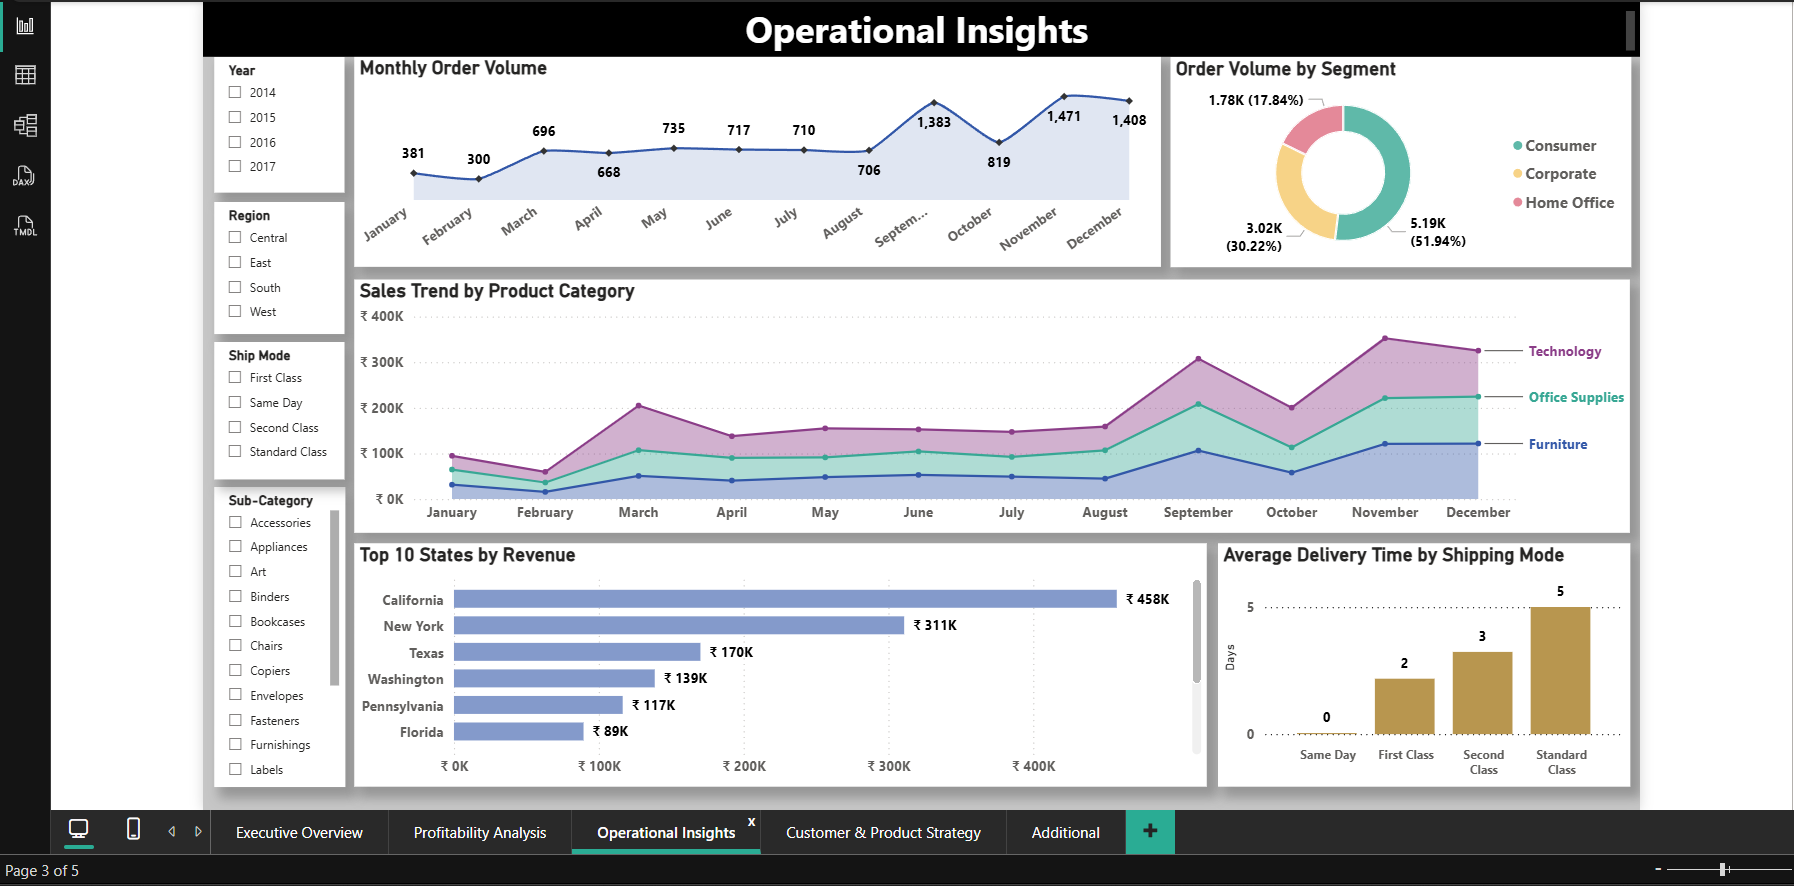

The dashboard page shown, as its layout file describes it:
{"tool":"powerbi","page":{"name":"Operational Insights","canvas":[1280,720],"ordinal":2},"visuals":[{"type":"slicer","fields":{"Values":["Superstore_Sales_Cleaned.Order Year"]},"box":[9.9,49.4,116,121],"z":0},{"type":"slicer","fields":{"Values":["Superstore_Sales_Cleaned.Sub-Category"]},"box":[9.8,431.9,116.6,267.5],"z":1000},{"type":"slicer","fields":{"Values":["Superstore_Sales_Cleaned.Region"]},"box":[9.9,177.8,116,117.3],"z":2000},{"type":"slicer","fields":{"Values":["Superstore_Sales_Cleaned.Ship Mode"]},"box":[9.9,302.5,116,122.2],"z":3000},{"type":"lineChart","title":"Monthly Order Volume","fields":{"Category":["Superstore_Sales_Cleaned.Order Date.Variation.Date Hierarchy.Month"],"Y":["CountNonNull(Superstore_Sales_Cleaned.Order ID)"]},"box":[134.6,48.1,718.5,187.7],"z":4000},{"type":"donutChart","title":"Order Volume by Segment","fields":{"Category":["Superstore_Sales_Cleaned.Segment"],"Y":["CountNonNull(Superstore_Sales_Cleaned.Order ID)"]},"box":[861.2,48.8,410,187.5],"z":5000},{"type":"stackedAreaChart","title":"Sales Trend by Product Category","fields":{"Category":["Superstore_Sales_Cleaned.Order Date.Variation.Date Hierarchy.Year","Superstore_Sales_Cleaned.Order Date.Variation.Date Hierarchy.Quarter","Superstore_Sales_Cleaned.Order Date.Variation.Date Hierarchy.Month","Superstore_Sales_Cleaned.Order Date.Variation.Date Hierarchy.Day"],"Y":["Sum(Superstore_Sales_Cleaned.Sales)"],"Series":["Superstore_Sales_Cleaned.Category"]},"box":[135,246.6,1136.2,225.8],"z":6000},{"type":"barChart","title":"Top 10 States by Revenue","fields":{"Category":["Superstore_Sales_Cleaned.State"],"Y":["Sum(Superstore_Sales_Cleaned.Sales)"]},"box":[135,482.2,759.5,217.2],"z":7000},{"type":"clusteredColumnChart","title":"Average Delivery Time by Shipping Mode","fields":{"Category":["Superstore_Sales_Cleaned.Ship Mode"],"Y":["Avg(Superstore_Sales_Cleaned.Ship Duration (Days))"]},"box":[904.3,482.2,366.9,217.2],"z":8000},{"type":"textbox","box":[0,0,1280,48.8],"z":9000}]}

Visuals, with their boxes on the page's 1280x720 design canvas (x1, y1, x2, y2). These are canvas units, not pixel positions in the 1794x886 screenshot, which may show the page scaled, cropped or inside an application window:
slicer - Superstore_Sales_Cleaned.Order Year: (10,49,126,170)
slicer - Superstore_Sales_Cleaned.Sub-Category: (10,432,126,699)
slicer - Superstore_Sales_Cleaned.Region: (10,178,126,295)
slicer - Superstore_Sales_Cleaned.Ship Mode: (10,302,126,425)
"Monthly Order Volume" lineChart: (135,48,853,236)
"Order Volume by Segment" donutChart: (861,49,1271,236)
"Sales Trend by Product Category" stackedAreaChart: (135,247,1271,472)
"Top 10 States by Revenue" barChart: (135,482,894,699)
"Average Delivery Time by Shipping Mode" clusteredColumnChart: (904,482,1271,699)
textbox: (0,0,1280,49)
